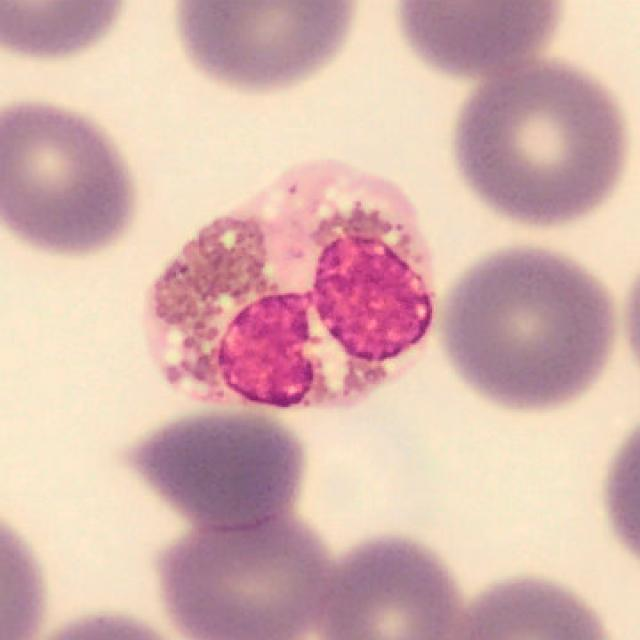Eosinofilo: (144, 160, 437, 412)
